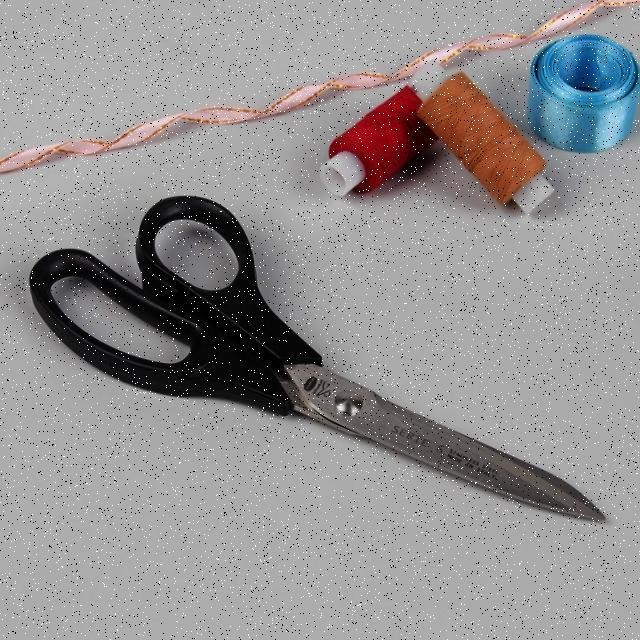scissors: (25, 187, 608, 545)
